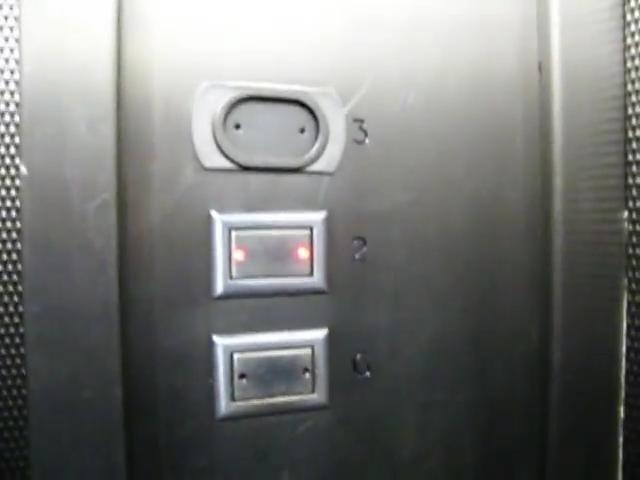empty: (185, 76, 350, 177), (208, 325, 333, 423), (203, 206, 332, 299)
